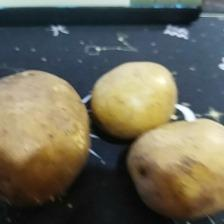Damaged potato: (1, 67, 93, 207), (125, 113, 224, 222)
Potato: (92, 61, 182, 142)
